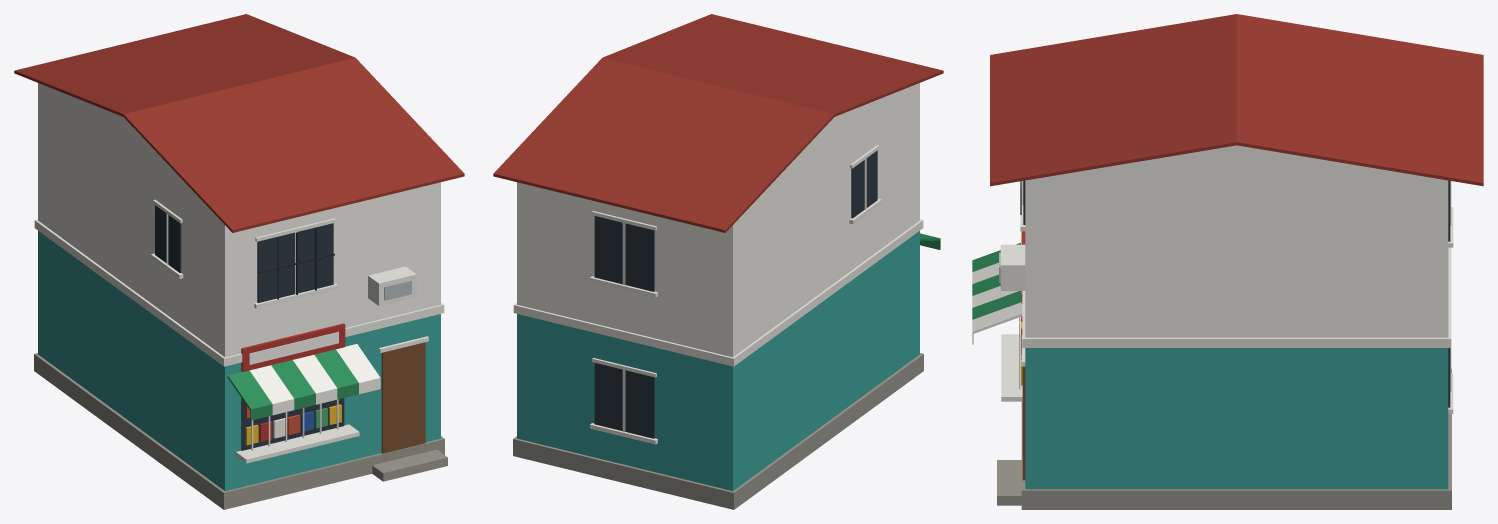
Rendered from BAY_F_TwoStorey_C.glb.
3 renders of one model, left to right at view 1: azimuth 30°, elevation 25°; view 2: azimuth 150°, elevation 25°; view 3: azimuth 270°, elevation 25°, orthographic. The views are drawn at different scales.
Visible parts, largest first — view 1: BAY_F_TwoStorey_C; view 2: BAY_F_TwoStorey_C; view 3: BAY_F_TwoStorey_C.
Boxes of the visible parts, box(x1,y1,x2,y2) form: BAY_F_TwoStorey_C: box(14, 14, 464, 509); BAY_F_TwoStorey_C: box(493, 14, 943, 509); BAY_F_TwoStorey_C: box(972, 14, 1483, 509).
Size of the model in its own units: 4.3 by 5.8 by 7.25.
Materials: 1 (1 with a texture image).
